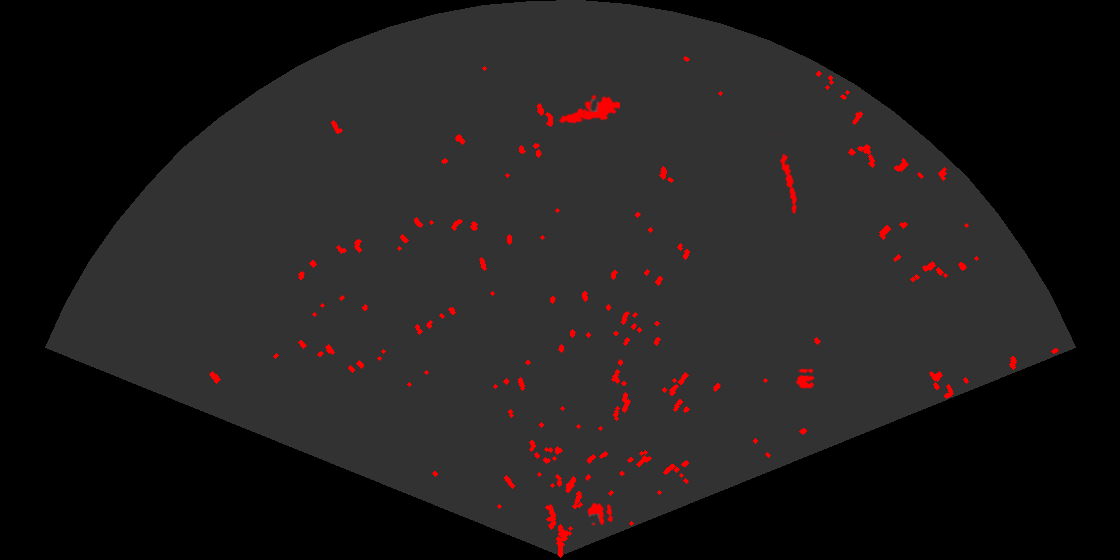ball: (586, 501, 615, 528), (794, 367, 816, 390)
chain: (776, 132, 799, 216)
frogman: (558, 93, 620, 125)
